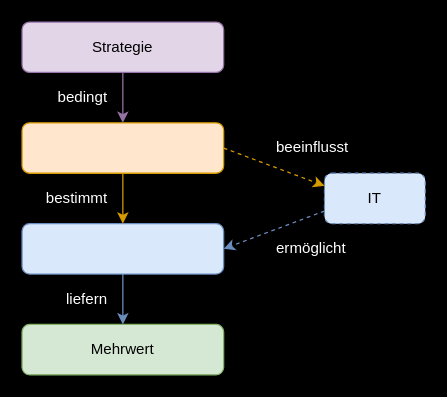
Some shapes in this 447 by 397 pixel diagram are drawn without their labels. Each missing label, with the centre of its shape:
"Geschäftsmodell" belongs at pixel 122 147.
"Geschäftsprozesse" belongs at pixel 122 248.
